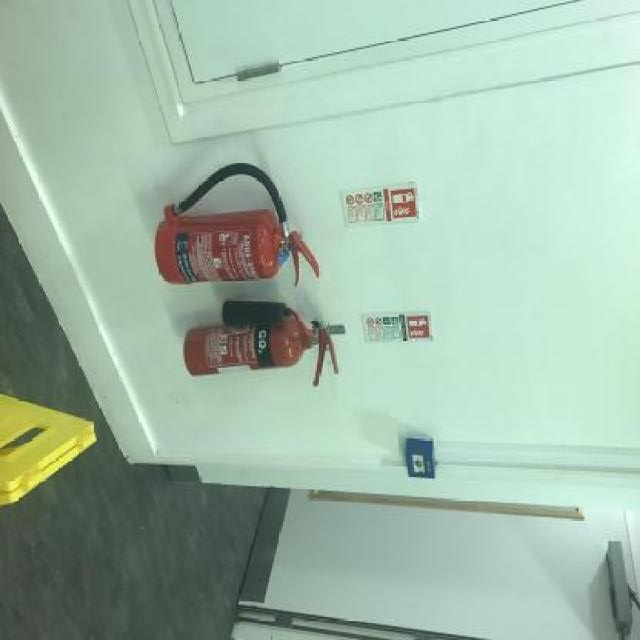fire extinguisher: (153, 161, 319, 287), (182, 302, 338, 383)
